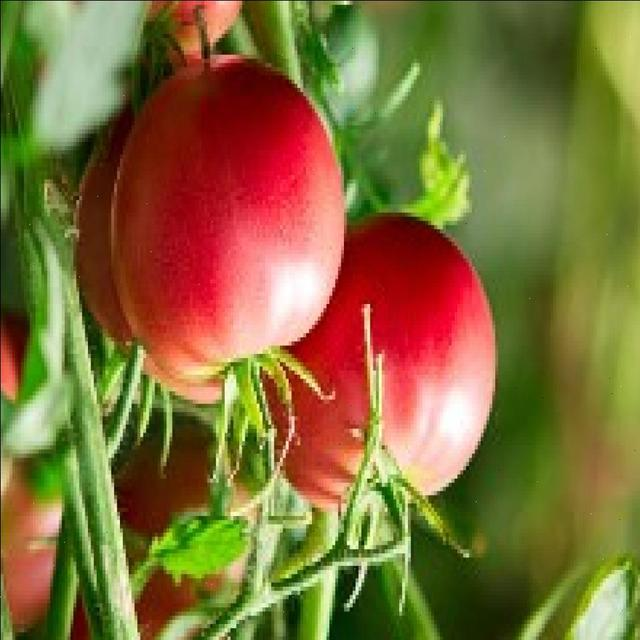Healthy Fruit: (146, 149, 262, 244)
